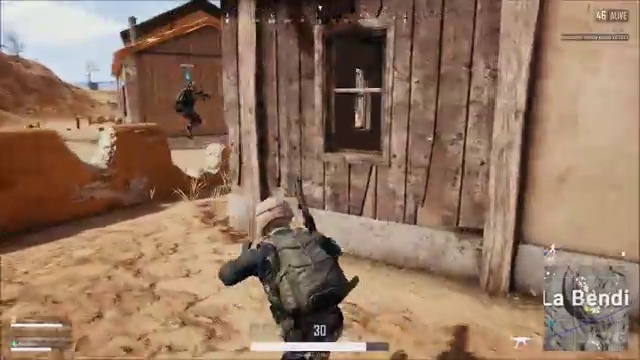Player: (192, 174, 379, 321), (165, 66, 216, 146)
